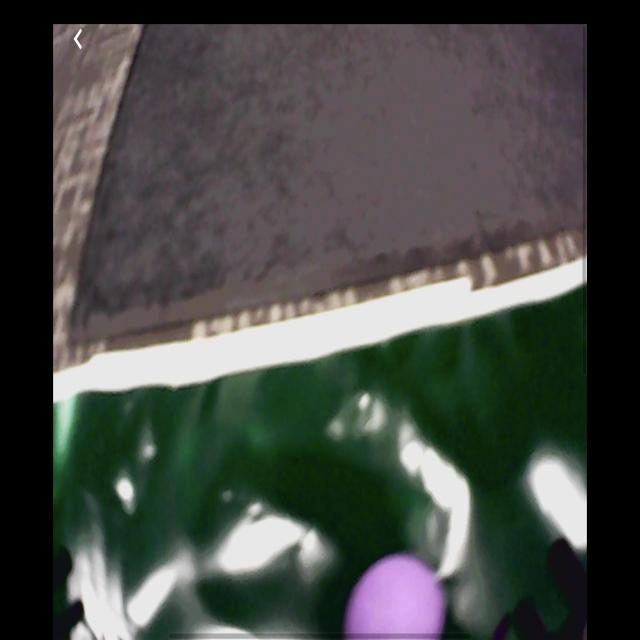ball: (347, 557, 446, 640)
